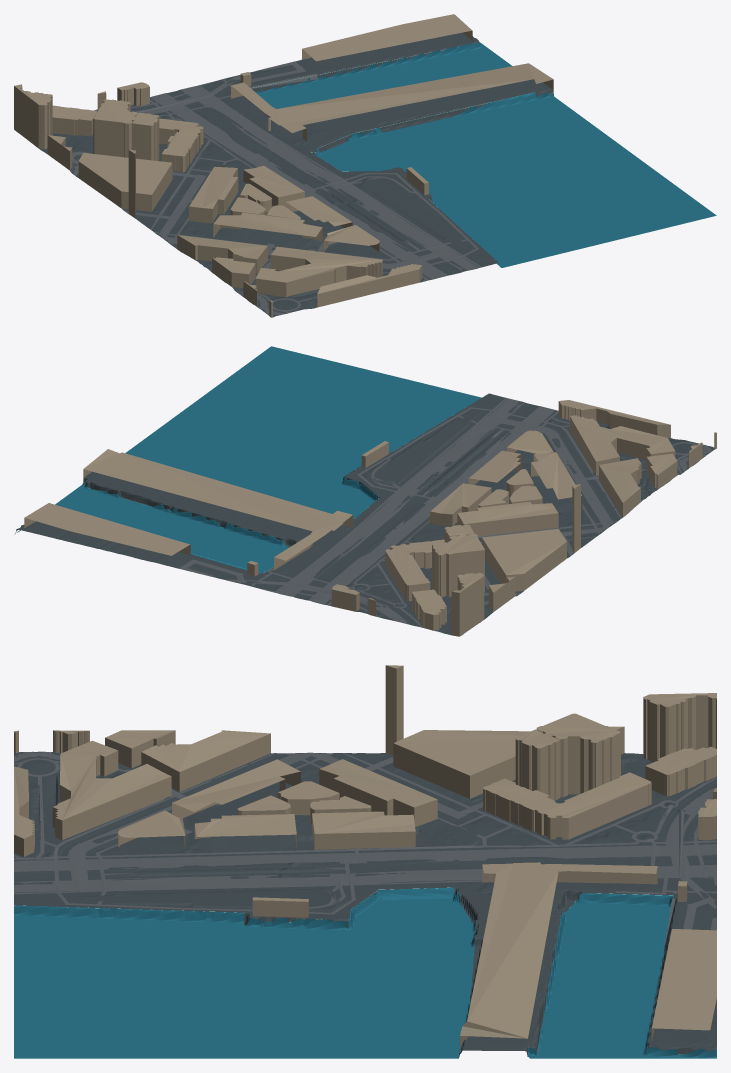
Rendered from epsg26910-1442-10890.lod0.glb.
The picture shows the model from 3 angles, top to bottom: view 1: azimuth 30°, elevation 25°; view 2: azimuth 150°, elevation 25°; view 3: azimuth 270°, elevation 25°; orthographic projection. The views are drawn at different scales.
Parts seen in each view (by area): view 1: epsg26910-1442-10890-lod0; view 2: epsg26910-1442-10890-lod0; view 3: epsg26910-1442-10890-lod0.
Boxes of the visible parts, x1,y1,x2,y2 form: epsg26910-1442-10890-lod0: [14, 14, 716, 317]; epsg26910-1442-10890-lod0: [14, 346, 716, 636]; epsg26910-1442-10890-lod0: [14, 665, 716, 1058].
Bounding box in the file's own units: 384 × 58.25 × 384.
